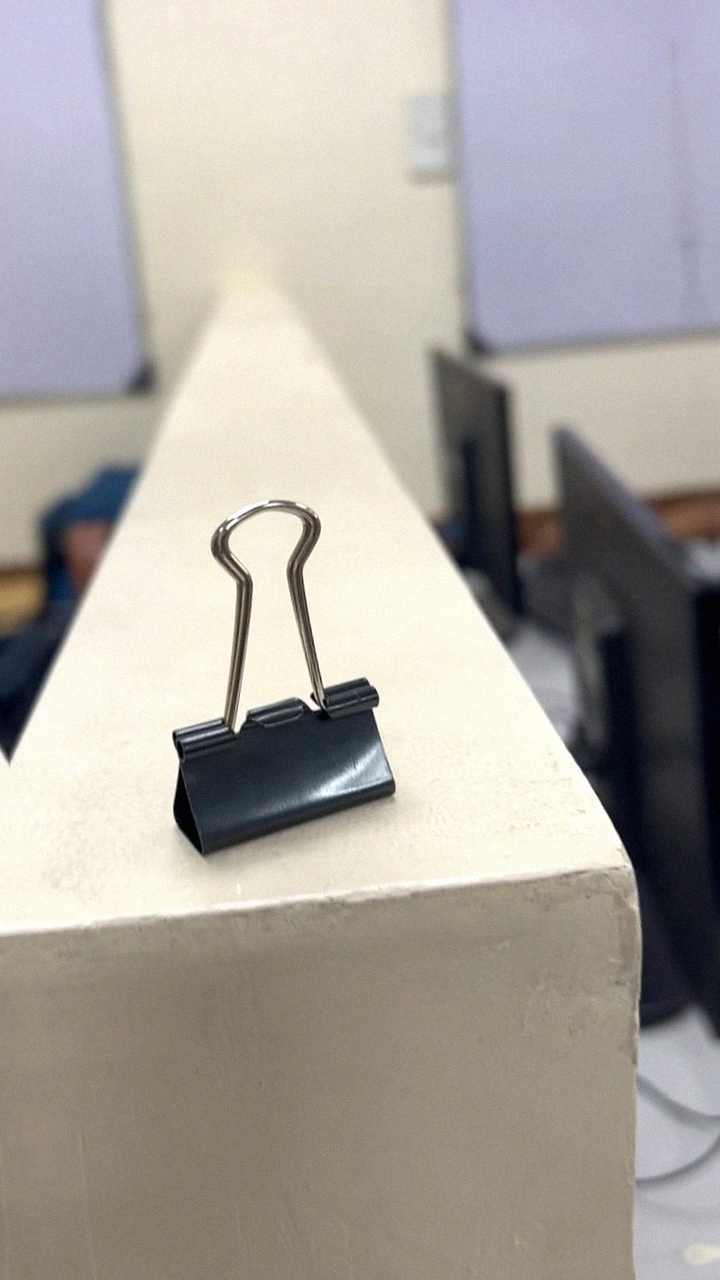kep_giay: (141, 487, 402, 855)
